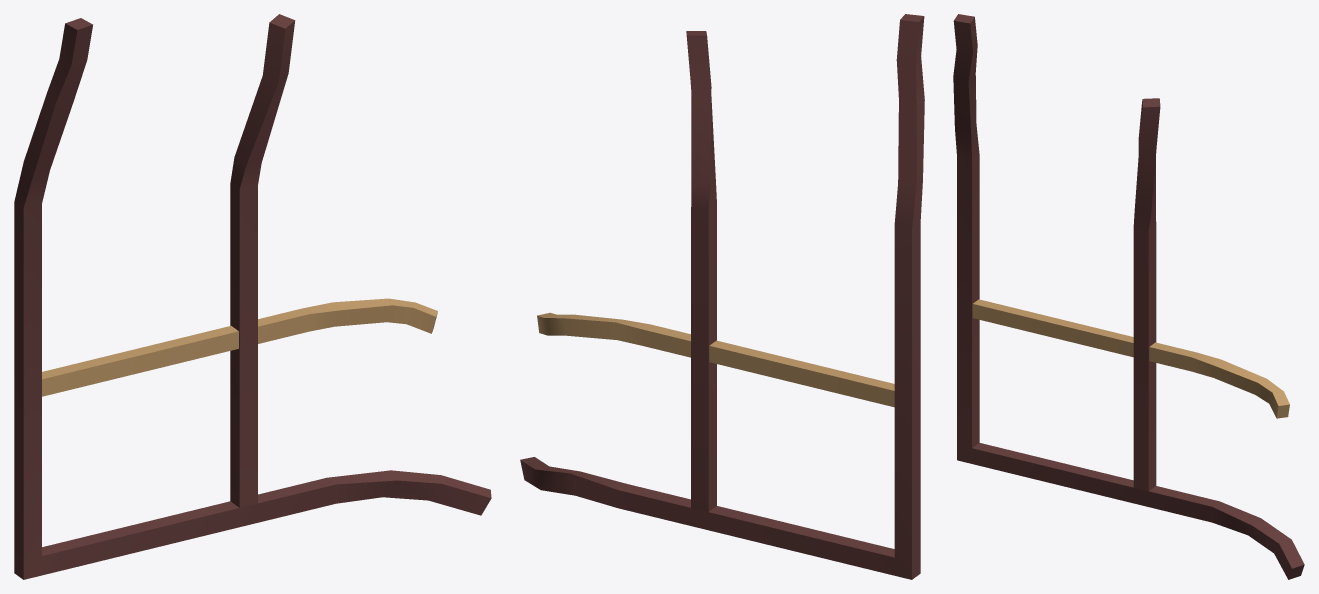
File: DBK_WinBig_Metal_End.fbx
3 renders of one model, left to right at view 1: azimuth 30°, elevation 25°; view 2: azimuth 150°, elevation 25°; view 3: azimuth 330°, elevation 25°, orthographic. The views are drawn at different scales.
Parts seen in each view (by area): view 1: DBK_WinBig_Metal_End; view 2: DBK_WinBig_Metal_End; view 3: DBK_WinBig_Metal_End.
Boxes of the visible parts, x1,y1,x2,y2 form: DBK_WinBig_Metal_End: [14, 14, 491, 579]; DBK_WinBig_Metal_End: [520, 14, 924, 579]; DBK_WinBig_Metal_End: [953, 14, 1304, 579].
Size of the model in its own units: 134 by 169 by 19.85.
